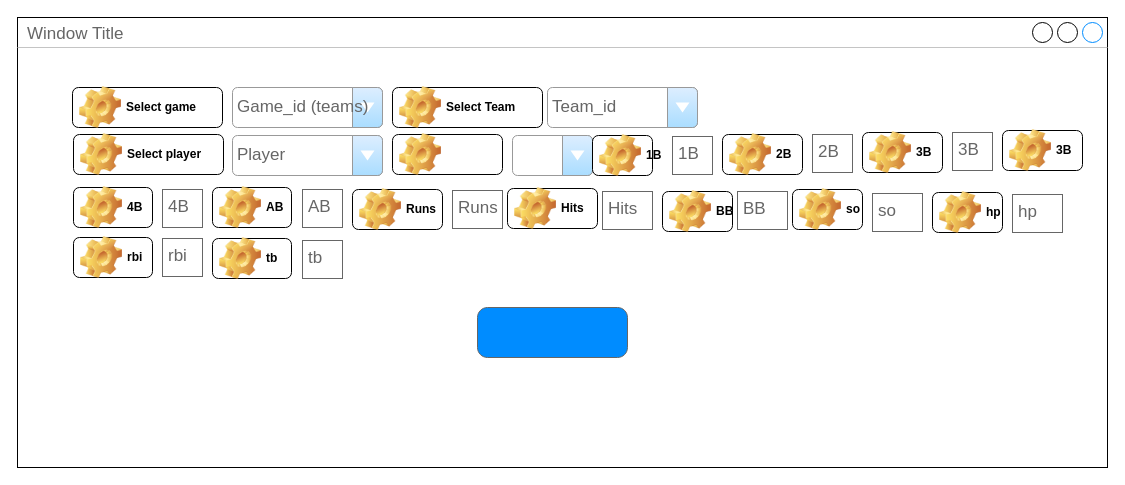
This 1125x485 diagram has some shape labels left out. Each missing label, with the centre of its shape:
Player Position: the point at 447,154
Position: the point at 552,155
Submit Game Data: the point at 552,332
